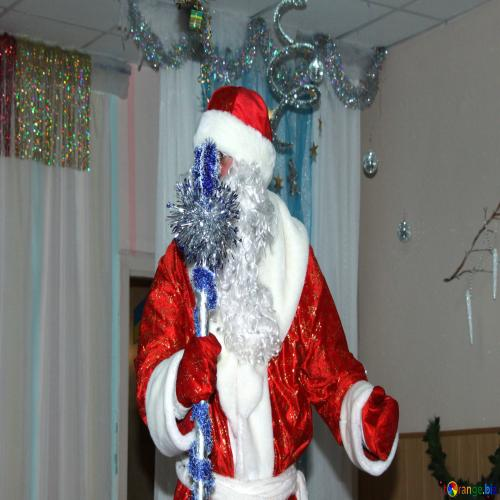Santa: (135, 83, 402, 500)
